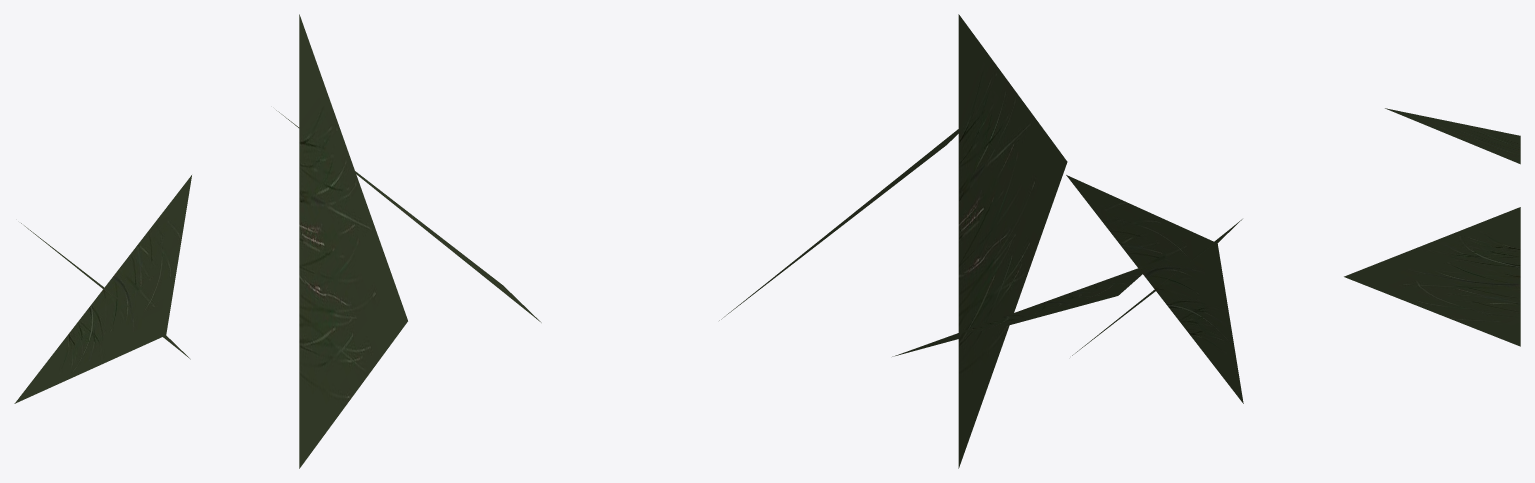
Rendered from brush_shortnewgrass_triangularclump.glb.
3 renders of one model, left to right at view 1: azimuth 30°, elevation 25°; view 2: azimuth 150°, elevation 25°; view 3: azimuth 270°, elevation 25°, orthographic. The views are drawn at different scales.
Bounding box in the file's own units: 58.64 × 42.46 × 22.78.
1 material, 1 textured.
